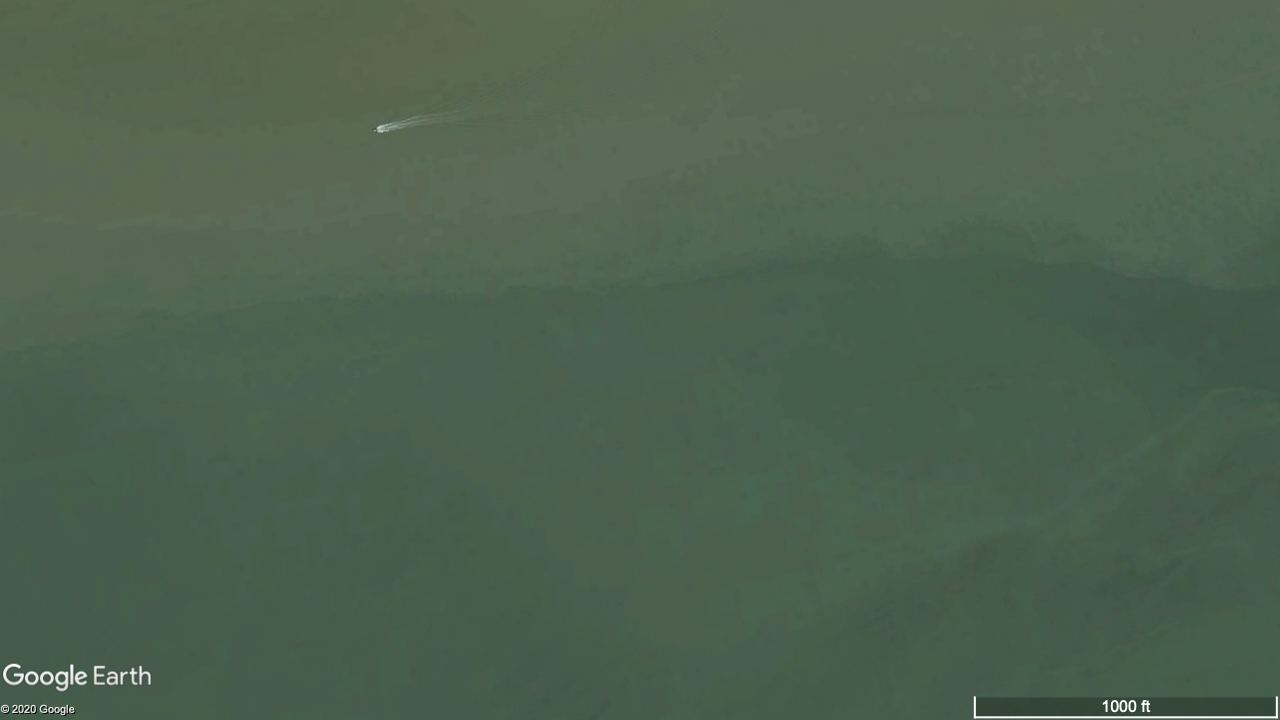boat: (372, 127, 378, 133)
